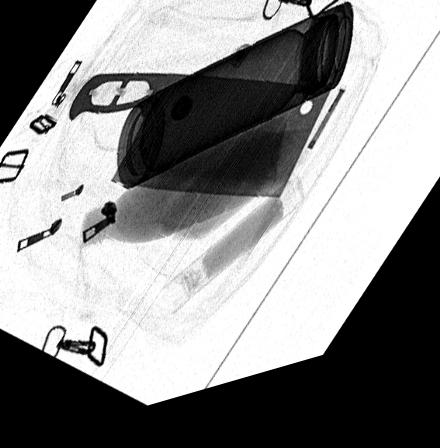Knife: (67, 78, 332, 215)
